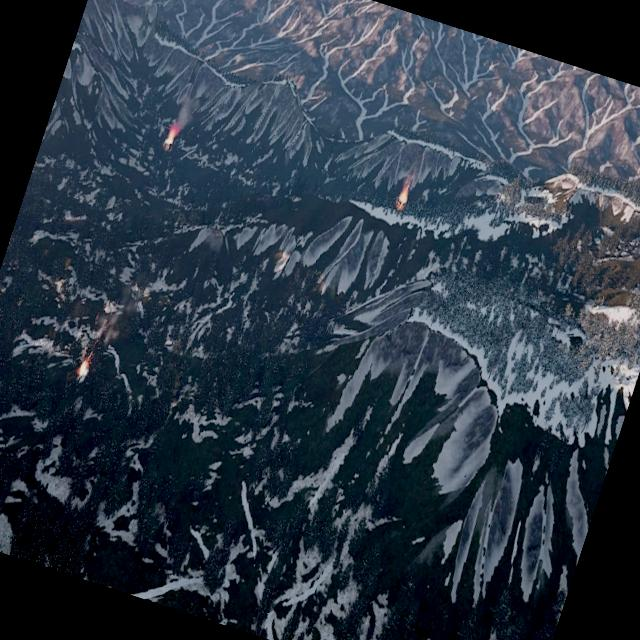fire: (395, 182, 411, 209), (162, 124, 178, 150), (76, 359, 92, 382)
smoke: (94, 278, 150, 352), (170, 96, 197, 134)
